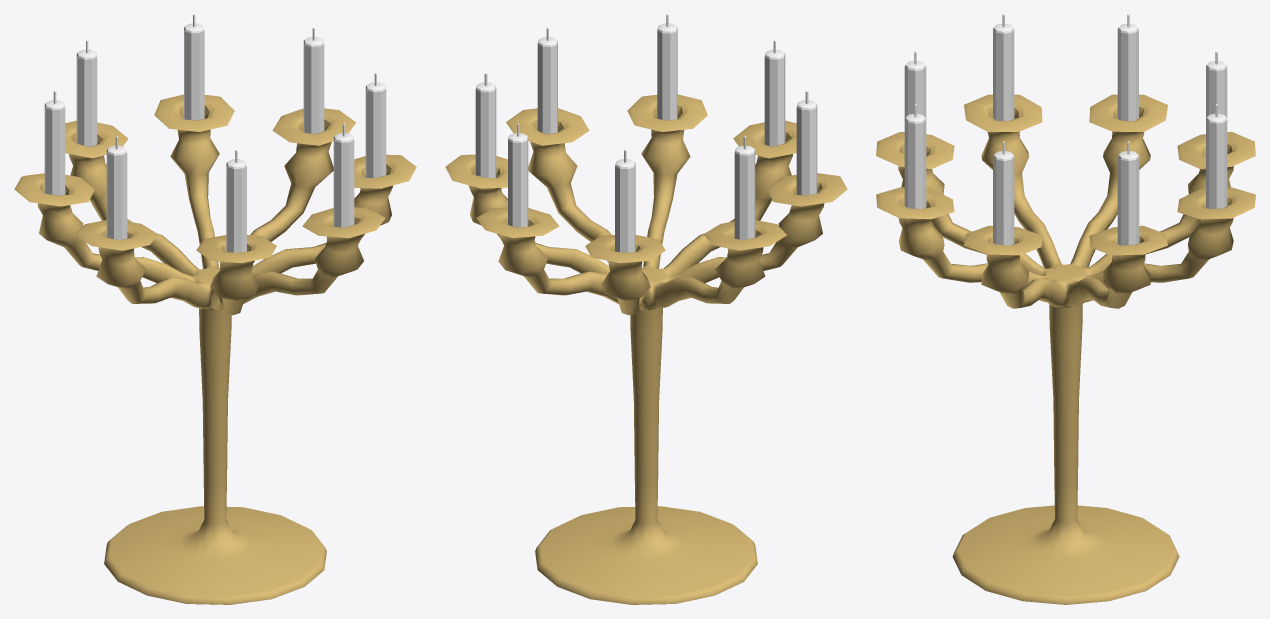
File: candles.fbx
The picture shows the model from 3 angles, left to right: view 1: azimuth 30°, elevation 25°; view 2: azimuth 150°, elevation 25°; view 3: azimuth 270°, elevation 25°; orthographic projection.
Parts seen in each view (by area): view 1: geo_candles; view 2: geo_candles; view 3: geo_candles.
Part boxes in pixels (box(x1,y1,x2,y2)): geo_candles: box(14, 14, 416, 604); geo_candles: box(445, 14, 847, 604); geo_candles: box(876, 14, 1255, 604).
Size of the model in its own units: 108 by 150 by 108.
